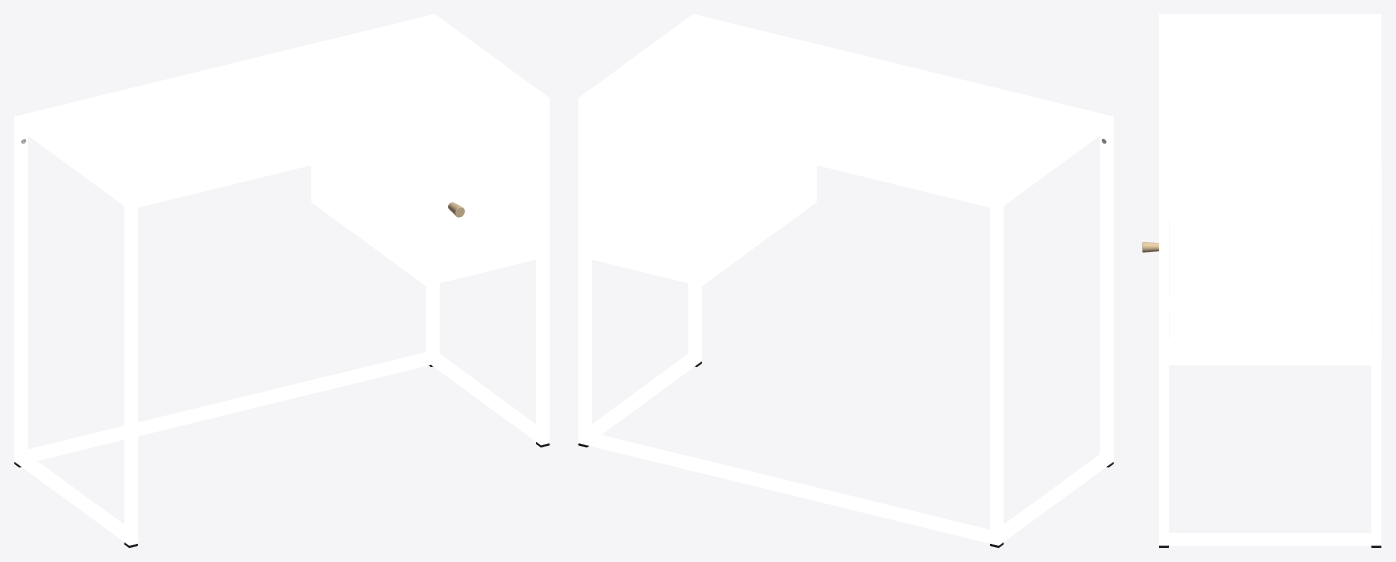
Rendered from DEQ21VEN71485_162909.glb.
The picture shows the model from 3 angles, left to right: view 1: azimuth 30°, elevation 25°; view 2: azimuth 150°, elevation 25°; view 3: azimuth 270°, elevation 25°; orthographic projection. The views are drawn at different scales.
Parts seen in each view (by area): view 1: DEQ21VEN71485_162909; view 2: DEQ21VEN71485_162909; view 3: DEQ21VEN71485_162909.
Boxes of the visible parts, left/top/right/bottom form: DEQ21VEN71485_162909: left=14, top=14, right=549, bottom=547; DEQ21VEN71485_162909: left=578, top=14, right=1113, bottom=547; DEQ21VEN71485_162909: left=1142, top=14, right=1381, bottom=547.
Bounding box in the file's own units: 0.9501 × 0.7502 × 0.4838.
Materials: 1 (1 with a texture image).
